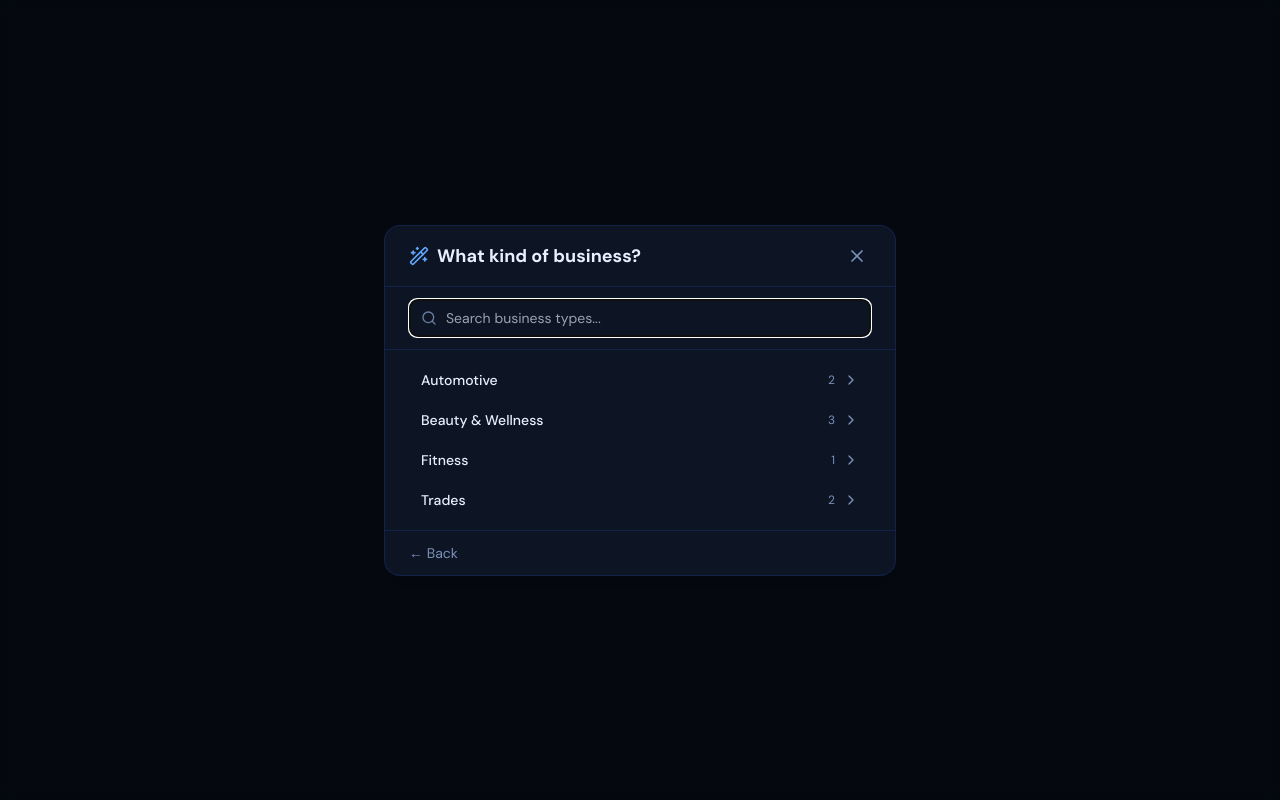
Test case: BusinessTypePicker › Happy Paths › search filters templates by display_name
Expected: the text "Beauty & Wellness" is shown, [421,410,544,430]
Type "salon" into the field with placeholder "Search business types..." at point(640, 318), box [409,298,871,336]
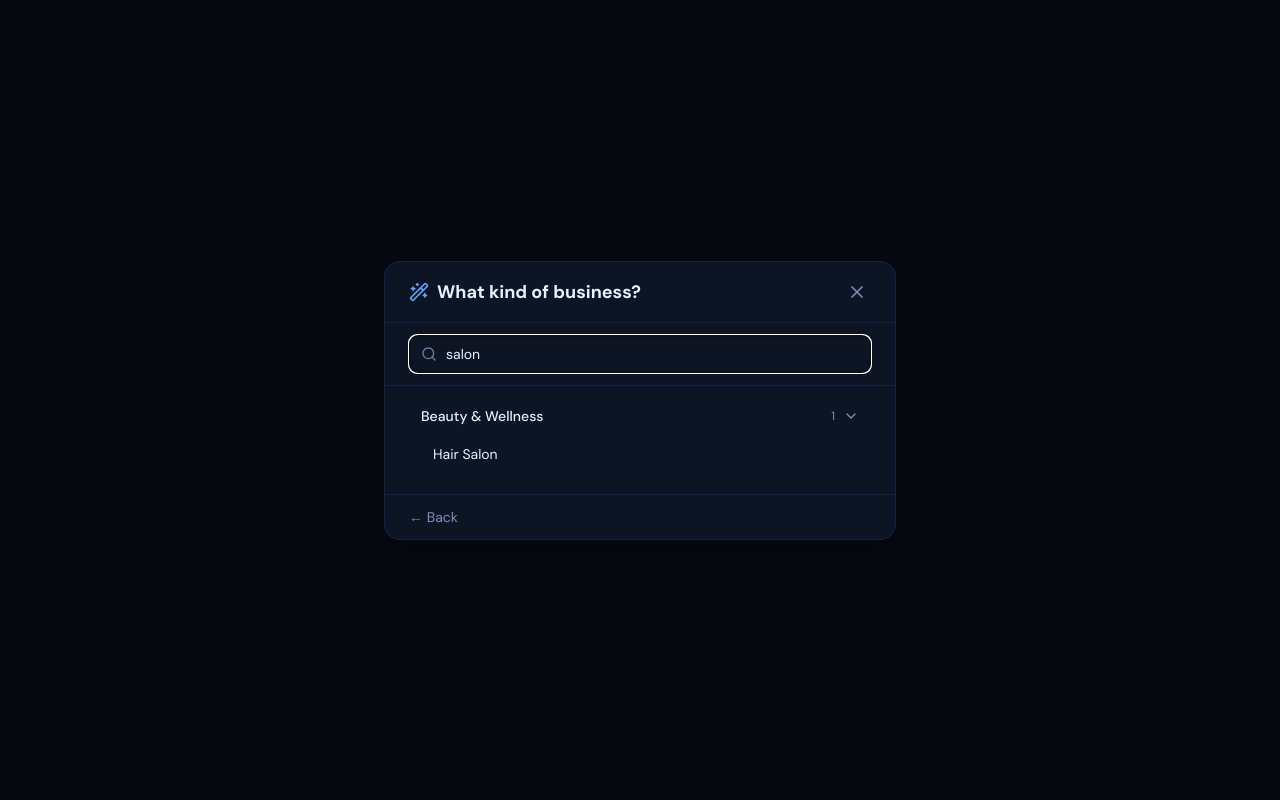
Expected: the text "Beauty & Wellness" is shown, [421,406,544,426]
Result: the text "Hair Salon" is shown at [433,444,498,462]
Result: the button "Automotive" is gone
